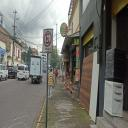NoEstacionar: (40, 27, 55, 56)
